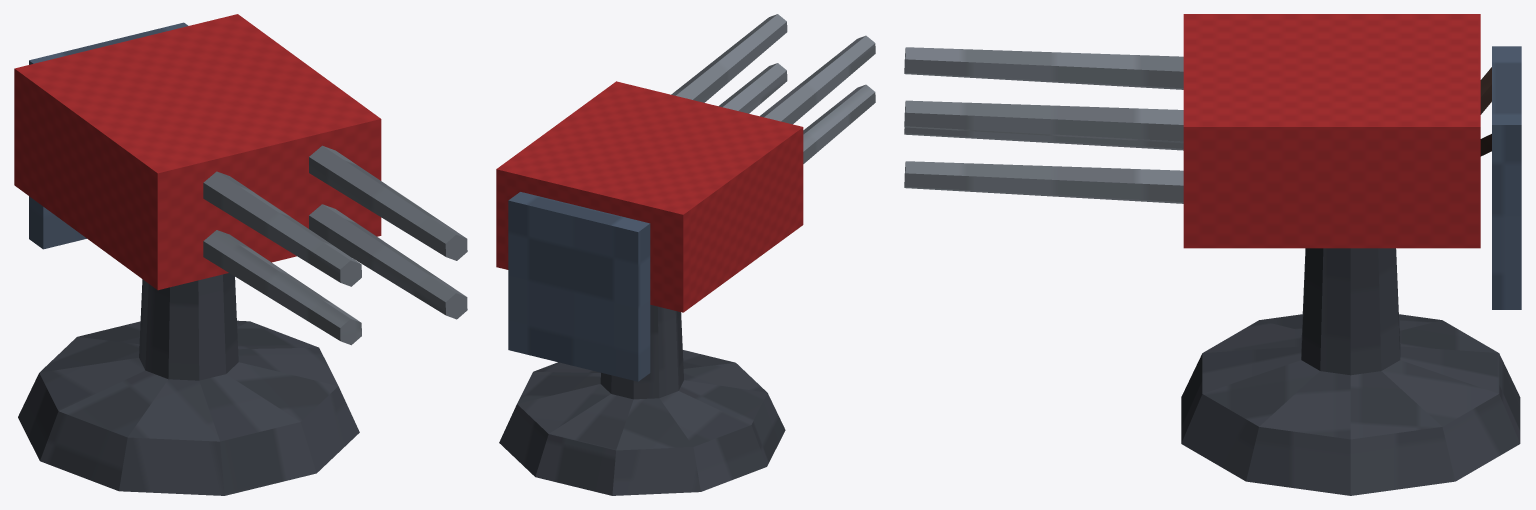
The model's file is SM_Prop_FlakGun_HQ.glb.
3 views of the same model, side by side, from view 1: azimuth 30°, elevation 25°; view 2: azimuth 150°, elevation 25°; view 3: azimuth 270°, elevation 25° (orthographic). The views are drawn at different scales.
Parts seen in each view (by area): view 1: SM_Prop_FlakGun_HQ; view 2: SM_Prop_FlakGun_HQ; view 3: SM_Prop_FlakGun_HQ.
Boxes of the visible parts, box(x1,y1,x2,y2) form: SM_Prop_FlakGun_HQ: box(14, 14, 467, 495); SM_Prop_FlakGun_HQ: box(496, 14, 875, 495); SM_Prop_FlakGun_HQ: box(904, 14, 1521, 495).
Size of the model in its own units: 0.96 by 1.04 by 1.66.
1 material, 1 textured.
